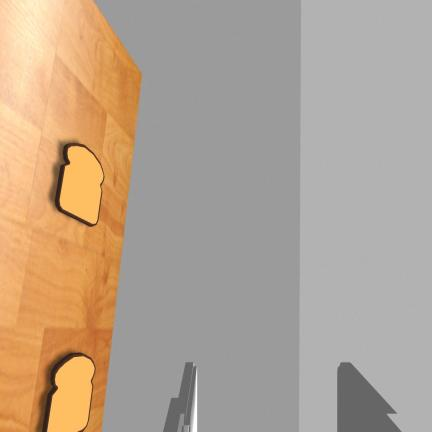sliced_bread: (43, 353, 95, 431), (56, 144, 104, 226)
